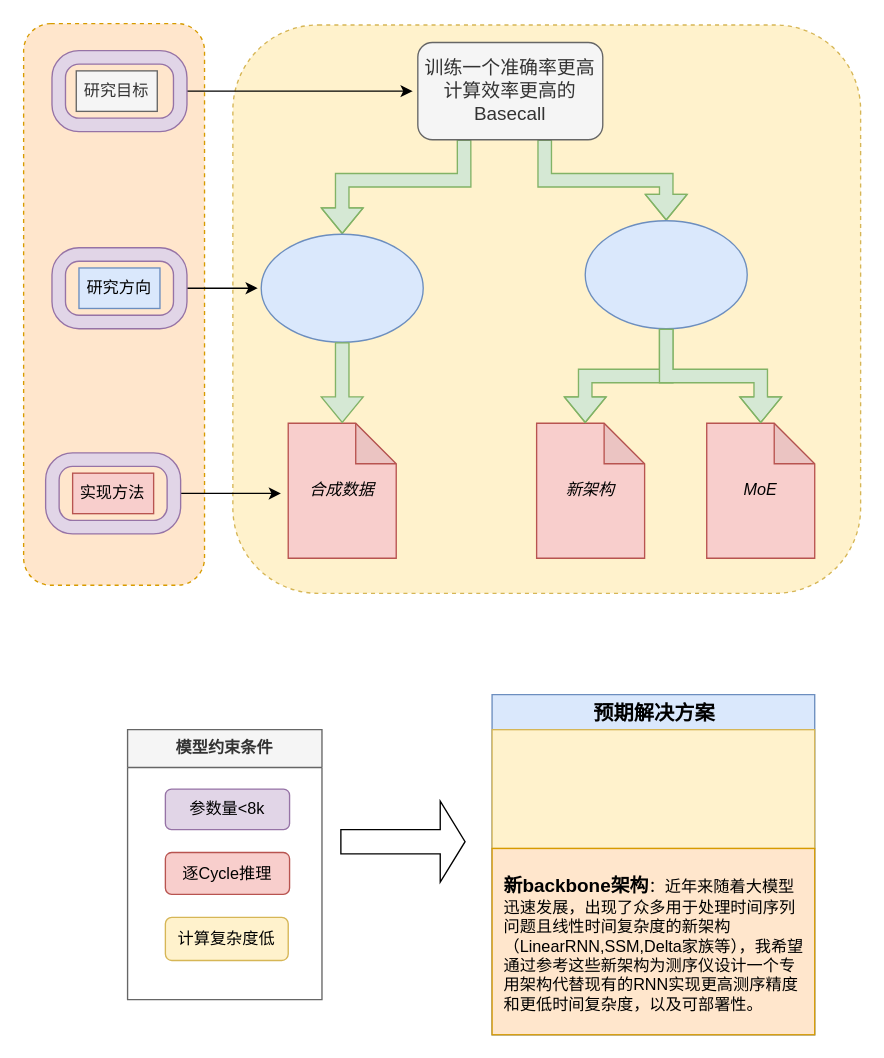
Some shapes in this 884 by 1058 pixel diagram are drawn without their labels. The centre of each missing label's shape, as x and y in pixels:
"MoE ：由于测序试剂，读长多样化等原因，推理时少量参数很难满足多场景需求，因此我希望使用MoE实现不同激活参数满足不同场景的需求。" belongs at point (653, 788).
"数据创新" belongs at point (341, 287).
"模型创新" belongs at point (665, 274).
